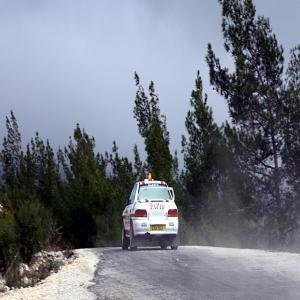Vehicle-registration-plate: (151, 224, 166, 233)
